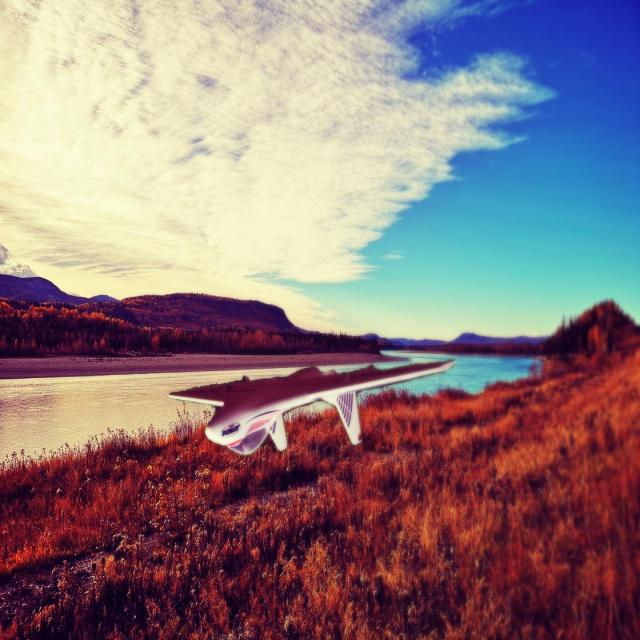airplane: (168, 356, 456, 456)
